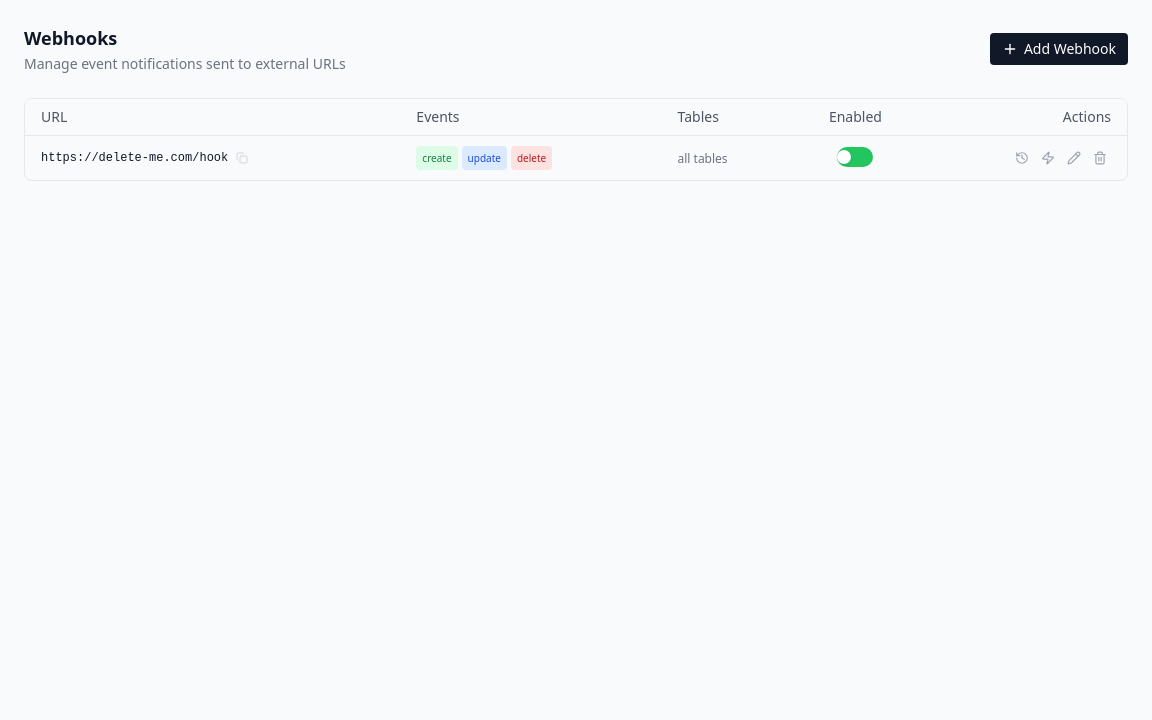
Test: Webhooks › opens delete confirmation
Expected: the text "https://delete-me.com/hook" is shown, [41, 150, 228, 166]
Click the button titled "Delete" at (1100, 158), box [1089, 147, 1111, 169]
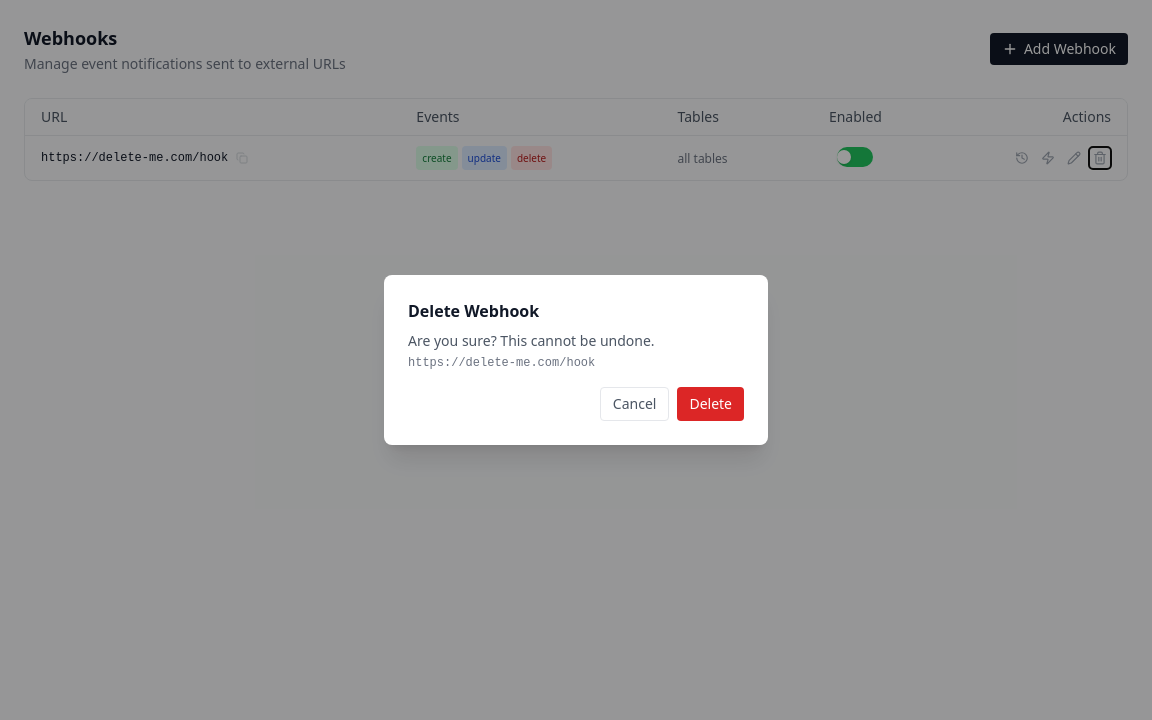
Expected: the heading "Delete Webhook" is shown, [408, 300, 539, 322]
